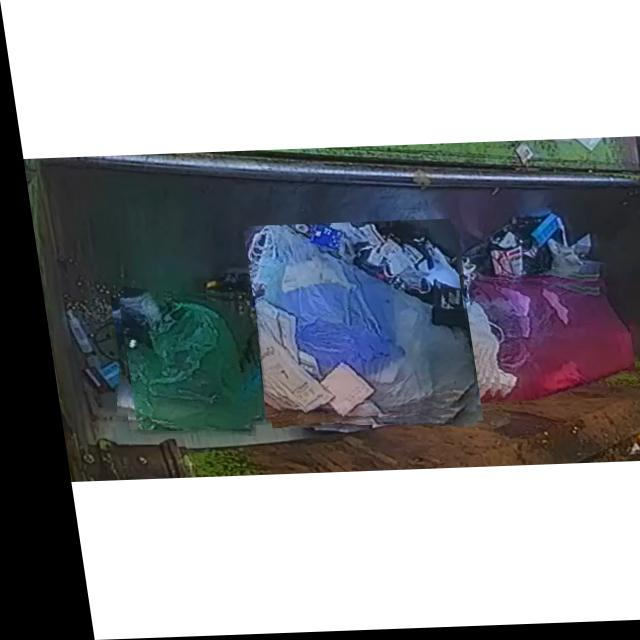general_trashbag: (112, 294, 238, 430)
other_trashbag: (245, 227, 463, 417), (462, 285, 622, 404)
